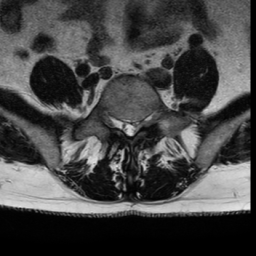CCS_severe_stenosis: (126, 113, 133, 143)
LFS_normal: (139, 111, 147, 137)
LLS_normal: (133, 114, 139, 139)
RFS_normal: (114, 110, 121, 135)
RLS_normal: (121, 114, 126, 138)
